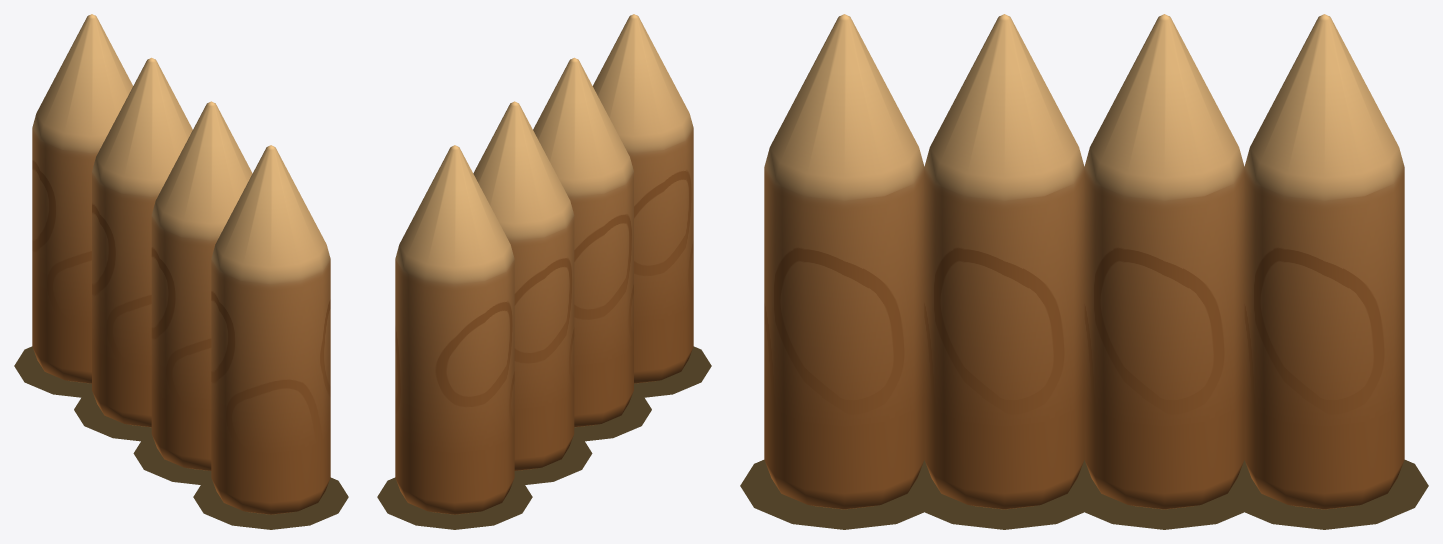
Rendered from WoodFence_b.fbx.
3 views of the same model, side by side, from view 1: azimuth 30°, elevation 25°; view 2: azimuth 150°, elevation 25°; view 3: azimuth 270°, elevation 25° (orthographic). The views are drawn at different scales.
Visible parts, largest first — view 1: woodfence4_pCylinder73, woodfence4_polySurface79; view 2: woodfence4_pCylinder73, woodfence4_polySurface79; view 3: woodfence4_pCylinder73, woodfence4_polySurface79.
Part boxes in pixels (x1,y1,x2,y2): woodfence4_pCylinder73: (32,14,330,514); woodfence4_polySurface79: (14,346,348,529); woodfence4_pCylinder73: (395,14,693,514); woodfence4_polySurface79: (377,346,711,529); woodfence4_pCylinder73: (764,14,1404,509); woodfence4_polySurface79: (740,460,1428,529).
Bounding box in the file's own units: 65.2 × 163 × 215.
